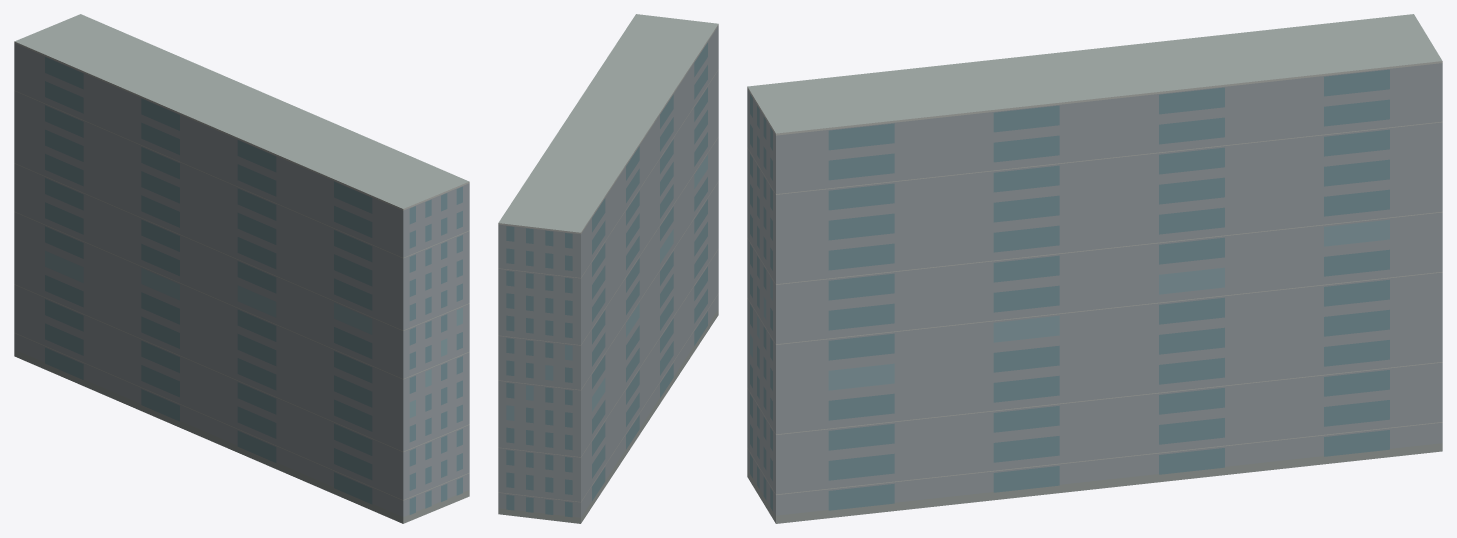
File: residential-f5474bd9-1028-490e-b154-9f36d9ab21fc.glb
3 renders of one model, left to right at view 1: azimuth 30°, elevation 25°; view 2: azimuth 150°, elevation 25°; view 3: azimuth 270°, elevation 25°, orthographic. The views are drawn at different scales.
Visible parts, largest first — view 1: residential-f5474bd9-1028-490e-b154-9f36d9ab21fc.tmp; view 2: residential-f5474bd9-1028-490e-b154-9f36d9ab21fc.tmp; view 3: residential-f5474bd9-1028-490e-b154-9f36d9ab21fc.tmp.
Boxes of the visible parts, x1=… form: residential-f5474bd9-1028-490e-b154-9f36d9ab21fc.tmp: x1=14, y1=14, x2=469, y2=523; residential-f5474bd9-1028-490e-b154-9f36d9ab21fc.tmp: x1=498, y1=14, x2=718, y2=523; residential-f5474bd9-1028-490e-b154-9f36d9ab21fc.tmp: x1=747, y1=14, x2=1442, y2=523.
Size of the model in its own units: 30.9 by 47 by 75.89.
